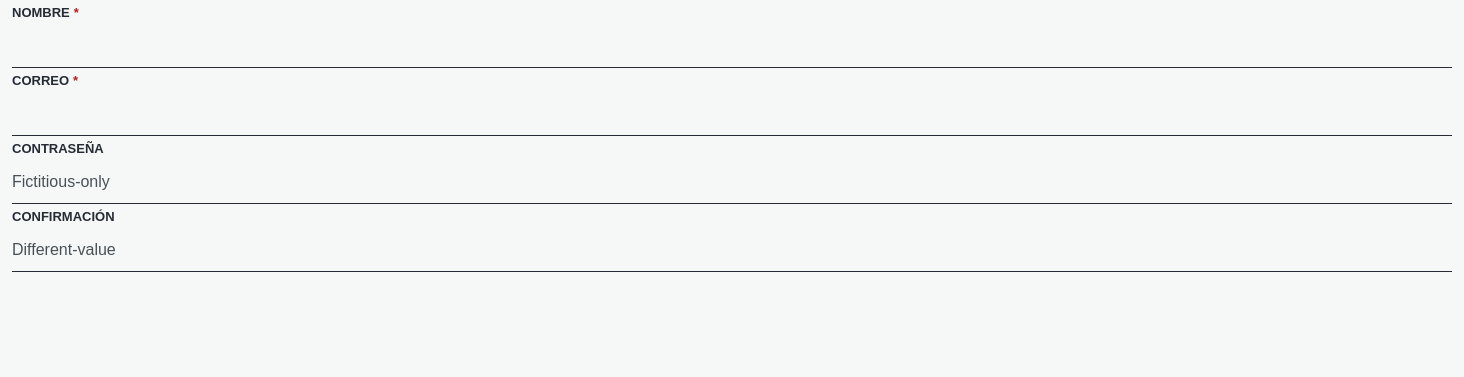
keeps format and confirmation explanations alongside a quiet missing field
Type "invalid-email" into the field labelled "Correo".
click(732, 114); type("invalid-email")  # box top-left (12, 92), bottom-right (1452, 136)
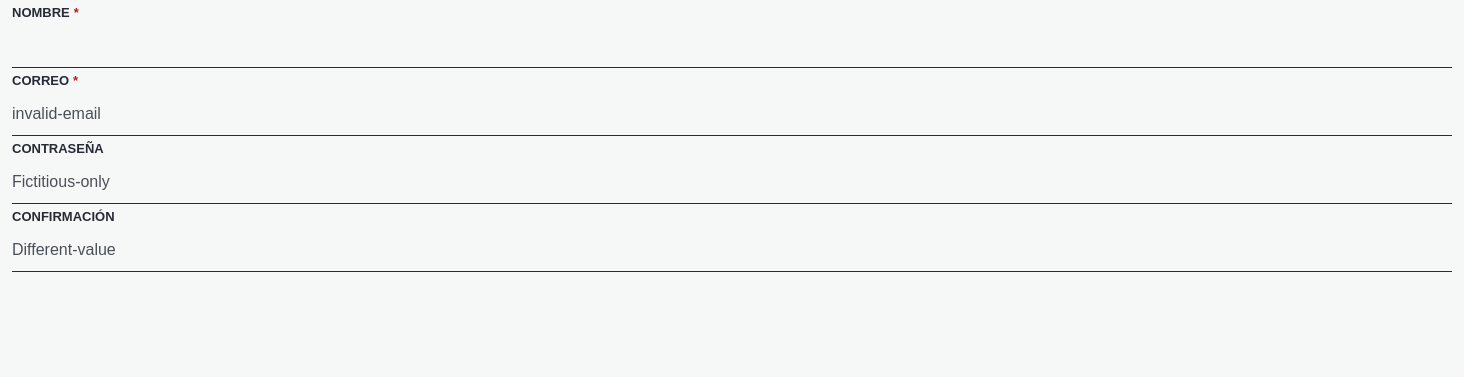
Submit the form
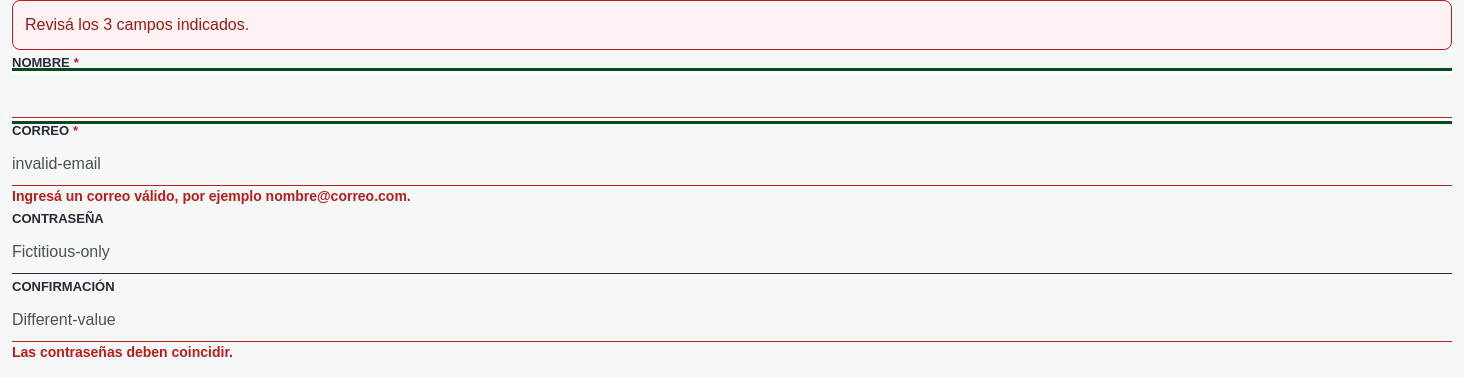
Result: the text "Ingresá un correo válido, por ejemplo nombre@correo.com." is shown at top-left (12, 188), bottom-right (411, 204)
Result: the text "Las contraseñas deben coincidir." is shown at top-left (12, 344), bottom-right (233, 360)
Result: the message reads "Revisá los 3 campos indicados." at top-left (12, 0), bottom-right (1452, 50)
